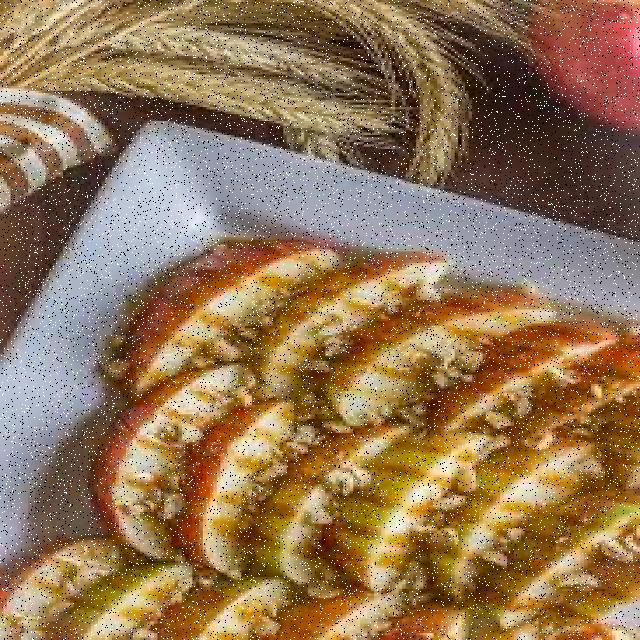Apple: (119, 235, 313, 386), (92, 379, 232, 555), (264, 429, 392, 590), (344, 296, 518, 411), (472, 436, 598, 591), (268, 262, 430, 380), (357, 440, 479, 588), (200, 405, 288, 578), (450, 327, 594, 431), (5, 539, 128, 640), (79, 564, 203, 640), (554, 347, 640, 429), (178, 582, 296, 640), (281, 594, 382, 640), (386, 598, 468, 640)
